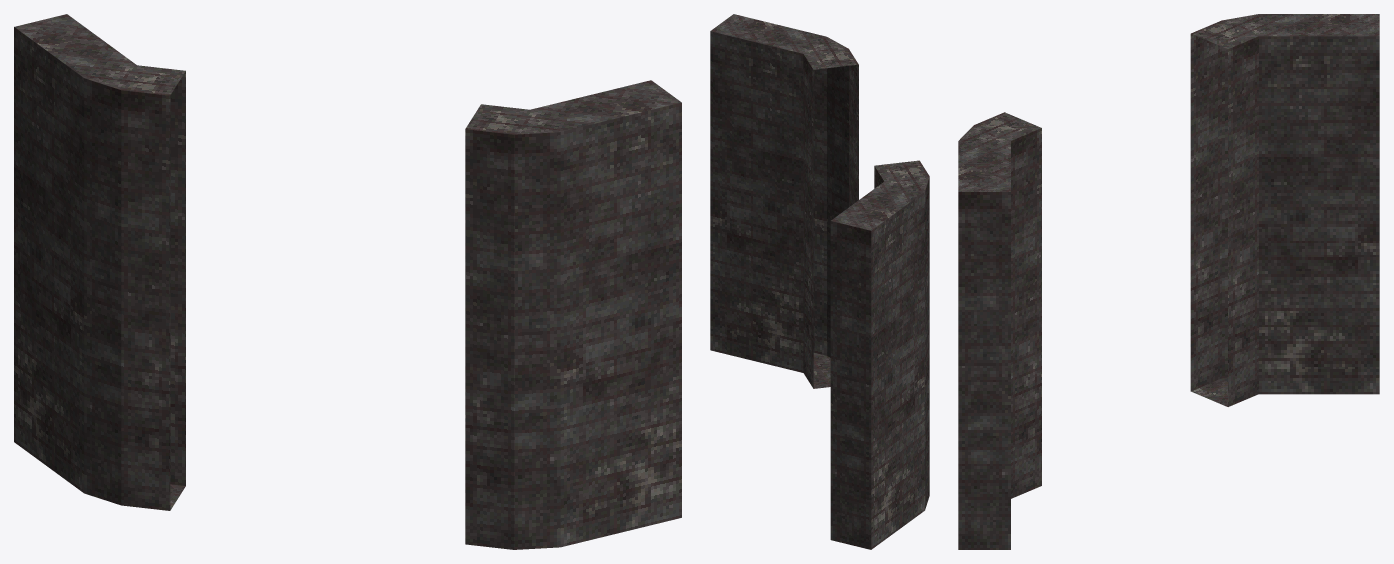
The model's file is wall_45degreeCorners_02.gltf.
The picture shows the model from 3 angles, left to right: view 1: azimuth 30°, elevation 25°; view 2: azimuth 150°, elevation 25°; view 3: azimuth 270°, elevation 25°; orthographic projection. The views are drawn at different scales.
Parts seen in each view (by area): view 1: wall_45degreeCorners_02; view 2: wall_45degreeCorners_02; view 3: wall_45degreeCorners_02.
Part boxes in pixels (x1=…): wall_45degreeCorners_02: x1=14, y1=14, x2=681, y2=549; wall_45degreeCorners_02: x1=710, y1=14, x2=929, y2=549; wall_45degreeCorners_02: x1=958, y1=14, x2=1379, y2=549.
Bounding box in the file's own units: 3.2 × 3 × 3.2.
Materials: 1 (1 with a texture image).
